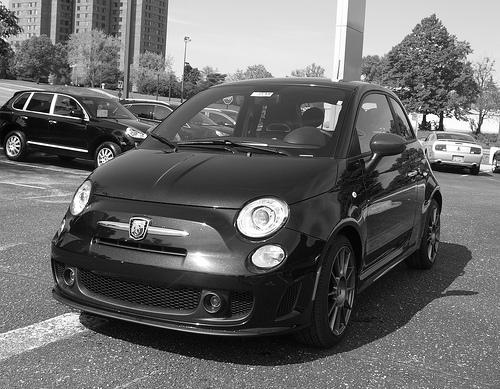car: (51, 78, 444, 349)
